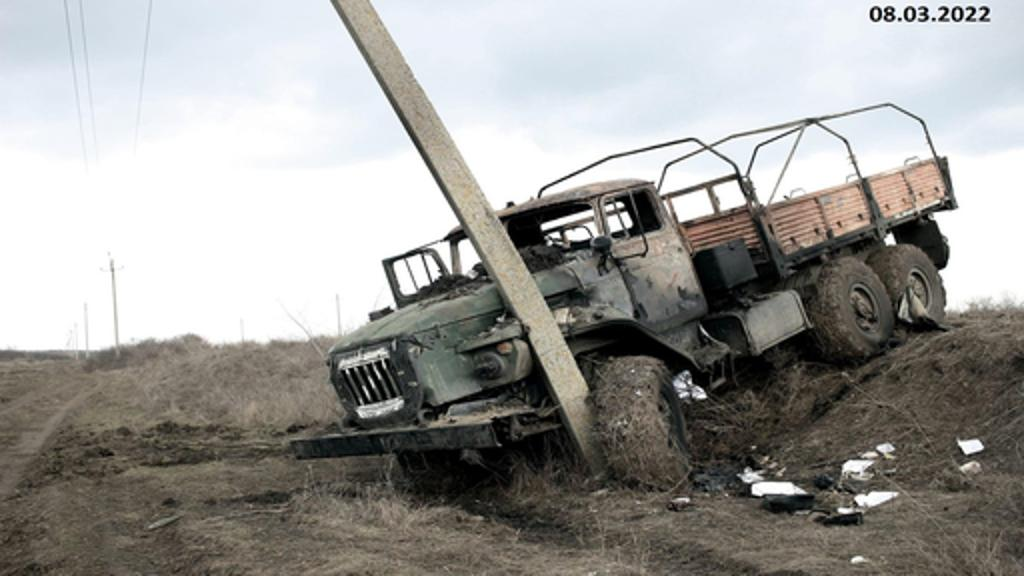TRUCK: (286, 88, 962, 502)
